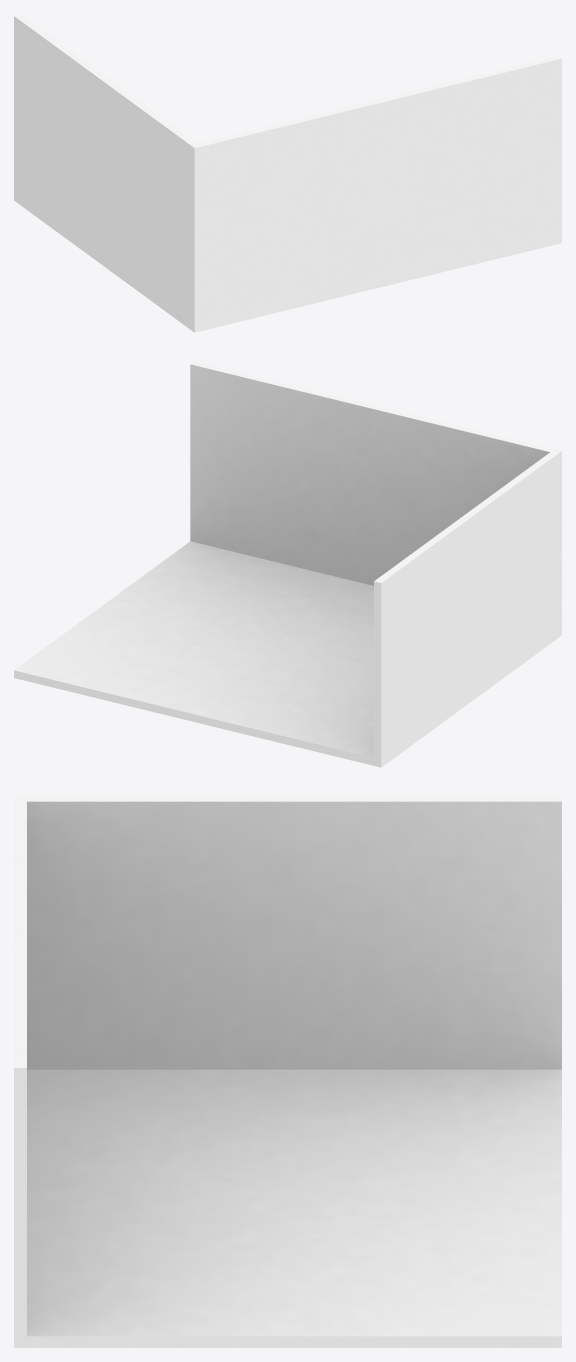
The model's file is HalfRoom.glb.
3 views of the same model, one above another, from view 1: azimuth 30°, elevation 25°; view 2: azimuth 150°, elevation 25°; view 3: azimuth 270°, elevation 25° (orthographic). The views are drawn at different scales.
Parts seen in each view (by area): view 1: HalfRoom; view 2: HalfRoom; view 3: HalfRoom.
Boxes of the visible parts, <box> form: HalfRoom: <box>14,14,561,332</box>; HalfRoom: <box>14,361,561,767</box>; HalfRoom: <box>14,796,561,1347</box>.
Size of the model in its own units: 5 by 2.4 by 4.26.
1 material, 1 textured.
